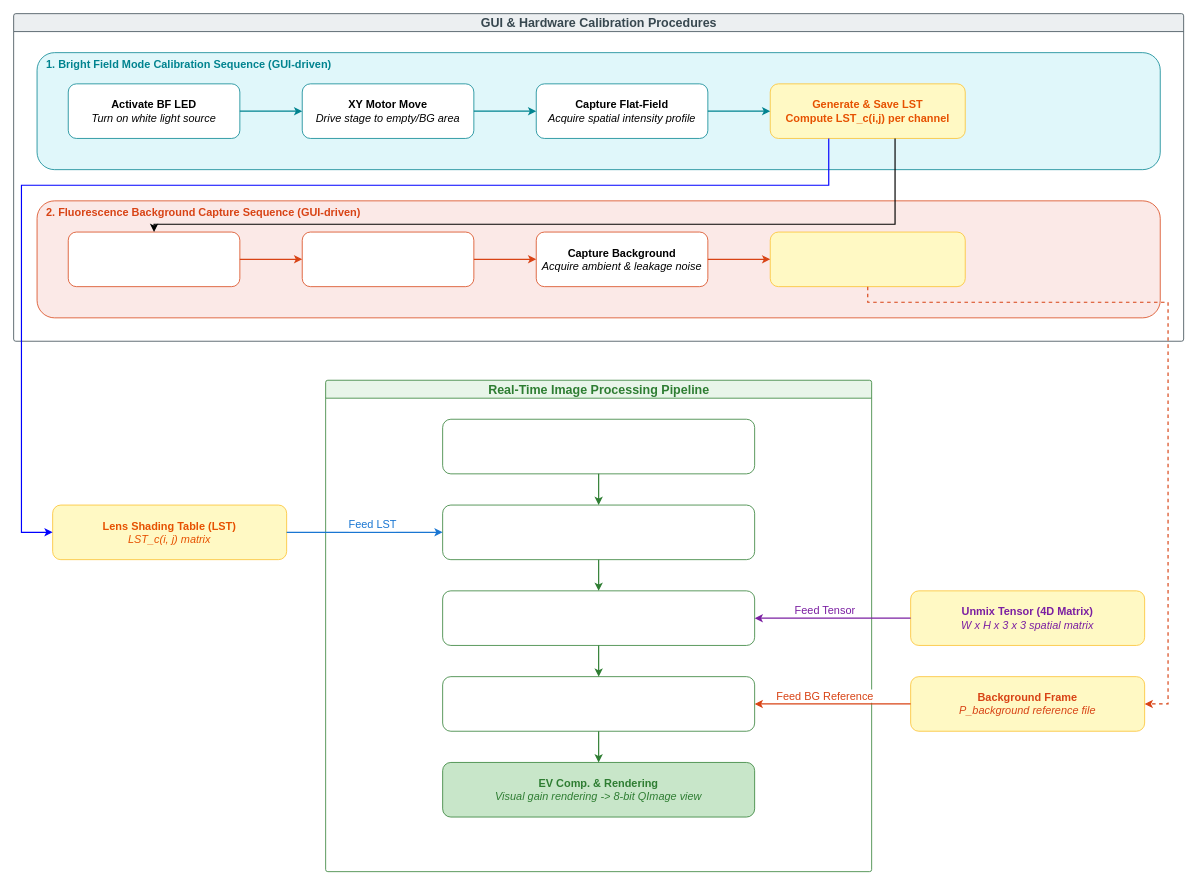
This 1197x885 diagram has some shape labels left out. The centre of each missing label's shape, as x and y in pixels:
Background Subtraction Subtract ambient & autofluorescence (P_corrected): point (598, 703)
Lens Shading Correction Apply Flat-field matrix compensation: point (598, 532)
Raw Fluorescence Capture Intersects 16-bit SBGGR16 raw data: point (598, 446)
Save Background Frame Store P_background reference: point (867, 259)
Spatially-Varying Unmixing Resolve channel crosstalk via Unmix Tensor: point (598, 617)
Switch Light Source BF LED Off -> Fluo LED On: point (153, 259)
XY Motor Move Ensure stage is on empty area: point (387, 259)
